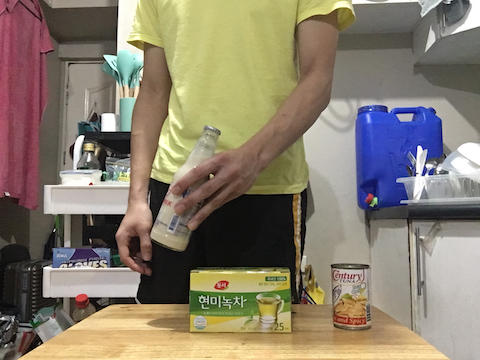bottle: (146, 117, 226, 254)
box: (187, 264, 294, 336)
can: (330, 260, 374, 331)
grab: (170, 151, 232, 229)
